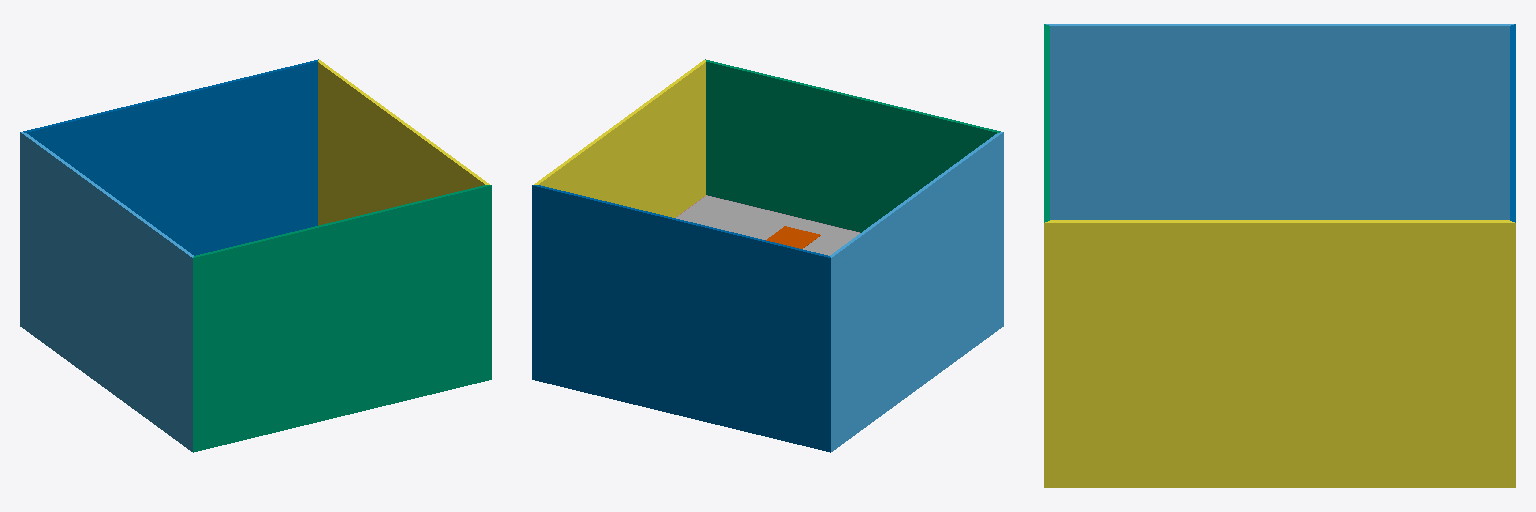
The robot description file, URDF, robot "arena_2025":
<?xml version='1.0' encoding='utf-8'?>
<robot name="arena_2025">
    <link name="base_link">
        <inertial>
            <origin xyz="4.0016179473047675 4.0013599276282035 0.04993309332569758" rpy="0.0 0.0 0.0" />
            <mass value="50179.96518754694" />
            <inertia ixx="267648.59232663445" iyy="267613.65854371747" izz="535178.8370239411" ixy="184.71112167276442" iyz="-3.373729939759869" ixz="-4.027221266112974" />
        </inertial>
        <visual name="base_link_visual">
            <origin xyz="0.0 0.0 0.0" rpy="0.0 0.0 0.0" />
            <geometry>
                <mesh filename="meshes/base_link.stl" scale="0.001 0.001 0.001" />
            </geometry>
        </visual>
        <collision name="base_link_collision">
            <origin xyz="0.0 0.0 0.0" rpy="0.0 0.0 0.0" />
            <geometry>
                <mesh filename="meshes/base_link.stl" scale="0.001 0.001 0.001" />
            </geometry>
        </collision>
    </link>
    <link name="parede1">
        <inertial>
            <origin xyz="2.500151304242571 0.0 0.00020728681232221825" rpy="0.0 -0.0 0.0" />
            <mass value="32426.387499999997" />
            <inertia ixx="177356.0474374378" iyy="70303.20121853898" izz="247605.20746339276" ixy="5.820766091346741e-11" iyz="0.0" ixz="0.12367325092327519" />
        </inertial>
        <visual name="parede1_visual">
            <origin xyz="-0.05 -4.0 -0.05" rpy="-0.0 1.5707963267948966 0" />
            <geometry>
                <mesh filename="meshes/parede1.stl" scale="0.001 0.001 0.001" />
            </geometry>
        </visual>
        <collision name="parede1_collision">
            <origin xyz="-0.05 -4.0 -0.05" rpy="-0.0 1.5707963267948966 0" />
            <geometry>
                <mesh filename="meshes/parede1.stl" scale="0.001 0.001 0.001" />
            </geometry>
        </collision>
    </link>
    <link name="parede2">
        <inertial>
            <origin xyz="0.0 2.500151304242571 0.00020728681232221825" rpy="0.0 -0.0 0.0" />
            <mass value="32426.387499999997" />
            <inertia ixx="70303.20121853898" iyy="177356.0474374378" izz="247605.20746339276" ixy="5.820766091346741e-11" iyz="0.12367325092327519" ixz="0.0" />
        </inertial>
        <visual name="parede2_visual">
            <origin xyz="-4.0 -0.05 -0.05" rpy="-1.5707963267948966 -0.0 0.0" />
            <geometry>
                <mesh filename="meshes/parede2.stl" scale="0.001 0.001 0.001" />
            </geometry>
        </visual>
        <collision name="parede2_collision">
            <origin xyz="-4.0 -0.05 -0.05" rpy="-1.5707963267948966 -0.0 0.0" />
            <geometry>
                <mesh filename="meshes/parede2.stl" scale="0.001 0.001 0.001" />
            </geometry>
        </collision>
    </link>
    <link name="parede3">
        <inertial>
            <origin xyz="2.500151304242571 -9.999999974752428e-09 0.0002072868123218541" rpy="0.0 -0.0 0.0" />
            <mass value="32426.387499999997" />
            <inertia ixx="177356.04743743734" iyy="70303.20121853892" izz="247605.20746339252" ixy="-5.820766091346741e-11" iyz="2.3283064365386963e-10" ixz="0.12367325101513416" />
        </inertial>
        <visual name="parede3_visual">
            <origin xyz="-0.05 3.99999999 -8.05" rpy="-3.141592653589793 -1.5707963267948966 0" />
            <geometry>
                <mesh filename="meshes/parede3.stl" scale="0.001 0.001 0.001" />
            </geometry>
        </visual>
        <collision name="parede3_collision">
            <origin xyz="-0.05 3.99999999 -8.05" rpy="-3.141592653589793 -1.5707963267948966 0" />
            <geometry>
                <mesh filename="meshes/parede3.stl" scale="0.001 0.001 0.001" />
            </geometry>
        </collision>
    </link>
    <link name="parede4">
        <inertial>
            <origin xyz="0.0 -2.500151304242571 0.0002072868123218541" rpy="0.0 -0.0 0.0" />
            <mass value="32426.387499999997" />
            <inertia ixx="70303.20121853892" iyy="177356.04743743734" izz="247605.20746339252" ixy="-5.820766091346741e-11" iyz="-0.12367325101513416" ixz="-2.3283064365386963e-10" />
        </inertial>
        <visual name="parede4_visual">
            <origin xyz="-4.0 0.05 -8.05" rpy="1.5707963267948966 -0.0 0.0" />
            <geometry>
                <mesh filename="meshes/parede4.stl" scale="0.001 0.001 0.001" />
            </geometry>
        </visual>
        <collision name="parede4_collision">
            <origin xyz="-4.0 0.05 -8.05" rpy="1.5707963267948966 -0.0 0.0" />
            <geometry>
                <mesh filename="meshes/parede4.stl" scale="0.001 0.001 0.001" />
            </geometry>
        </collision>
    </link>
    <link name="Takeoff_Base">
        <inertial>
            <origin xyz="0.0 0.0 0.25050000000000006" rpy="0.0 -0.0 0.0" />
            <mass value="11798.55" />
            <inertia ixx="2459.015445712501" iyy="4179.637320712502" izz="6145.078125" ixy="-1.8189894035458565e-12" iyz="4.547473508864641e-13" ixz="0.0" />
        </inertial>
        <visual name="Takeoff_Base_visual">
            <origin xyz="-1.0 -0.75 -0.099" rpy="0.0 -0.0 0.0" />
            <geometry>
                <mesh filename="meshes/Takeoff_Base.stl" scale="0.001 0.001 0.001" />
            </geometry>
        </visual>
        <collision name="Takeoff_Base_collision">
            <origin xyz="-1.0 -0.75 -0.099" rpy="0.0 -0.0 0.0" />
            <geometry>
                <mesh filename="meshes/Takeoff_Base.stl" scale="0.001 0.001 0.001" />
            </geometry>
        </collision>
    </link>
    <link name="casa_paredes">
        <inertial>
            <origin xyz="0.03020244236199403 -0.016497457106738125 0.7736794218110731" rpy="0.0 -0.0 0.0" />
            <mass value="3304.9478712202363" />
            <inertia ixx="2710.237049619859" iyy="12143.995963199108" izz="13600.092624652665" ixy="87.29446573412679" iyz="42.37317346685586" ixz="20.768977798163178" />
        </inertial>
        <visual name="casa_paredes_visual">
            <origin xyz="-4.98800003 -0.99999546 -0.073" rpy="0.0 -0.0 0.0" />
            <geometry>
                <mesh filename="meshes/casa_paredes.stl" scale="0.001 0.001 0.001" />
            </geometry>
        </visual>
        <collision name="casa_paredes_collision">
            <origin xyz="-4.98800003 -0.99999546 -0.073" rpy="0.0 -0.0 0.0" />
            <geometry>
                <mesh filename="meshes/casa_paredes.stl" scale="0.001 0.001 0.001" />
            </geometry>
        </collision>
    </link>
    <link name="casa_teto">
        <inertial>
            <origin xyz="0.012000028397619645 -0.0007485727960295208 -3.841817082559373e-05" rpy="0.0 -0.0 0.0" />
            <mass value="919.118981303504" />
            <inertia ixx="300.91324981182834" iyy="2758.070419543652" izz="3058.968541818951" ixy="-1.401973804604495e-05" iyz="0.0031351931324934412" ixz="1.6749527276260778e-07" />
        </inertial>
        <visual name="casa_teto_visual">
            <origin xyz="-4.98800003 -0.99999546 -1.595" rpy="0.0 -0.0 0.0" />
            <geometry>
                <mesh filename="meshes/casa_teto.stl" scale="0.001 0.001 0.001" />
            </geometry>
        </visual>
        <collision name="casa_teto_collision">
            <origin xyz="-4.98800003 -0.99999546 -1.595" rpy="0.0 -0.0 0.0" />
            <geometry>
                <mesh filename="meshes/casa_teto.stl" scale="0.001 0.001 0.001" />
            </geometry>
        </collision>
    </link>
    <link name="Landing_Bases1">
        <inertial>
            <origin xyz="0.0 0.0 0.3755" rpy="0.0 -0.0 0.0" />
            <mass value="5895.3499999999985" />
            <inertia ixx="768.3611079458351" iyy="768.3611079458333" izz="982.5583333333416" ixy="0.0" iyz="0.0" ixz="0.0" />
        </inertial>
        <visual name="Landing_Bases1_visual">
            <origin xyz="-1.0 -3.0 -0.099" rpy="0.0 -0.0 0.0" />
            <geometry>
                <mesh filename="meshes/Landing_Bases1.stl" scale="0.001 0.001 0.001" />
            </geometry>
        </visual>
        <collision name="Landing_Bases1_collision">
            <origin xyz="-1.0 -3.0 -0.099" rpy="0.0 -0.0 0.0" />
            <geometry>
                <mesh filename="meshes/Landing_Bases1.stl" scale="0.001 0.001 0.001" />
            </geometry>
        </collision>
    </link>
    <link name="Landing_Bases2">
        <inertial>
            <origin xyz="0.0 0.0 0.5005000000000001" rpy="0.0 -0.0 0.0" />
            <mass value="7857.849999999999" />
            <inertia ixx="1310.9519631541916" iyy="1310.9519631541625" izz="1309.6416666667792" ixy="-2.9103830456733704e-11" iyz="0.0" ixz="0.0" />
        </inertial>
        <visual name="Landing_Bases2_visual">
            <origin xyz="-4.5 -6.5 -0.099" rpy="0.0 -0.0 0.0" />
            <geometry>
                <mesh filename="meshes/Landing_Bases2.stl" scale="0.001 0.001 0.001" />
            </geometry>
        </visual>
        <collision name="Landing_Bases2_collision">
            <origin xyz="-4.5 -6.5 -0.099" rpy="0.0 -0.0 0.0" />
            <geometry>
                <mesh filename="meshes/Landing_Bases2.stl" scale="0.001 0.001 0.001" />
            </geometry>
        </collision>
    </link>
    <link name="Landing_Bases3">
        <inertial>
            <origin xyz="0.0 0.0 0.005" rpy="0.0 -0.0 0.0" />
            <mass value="78.5" />
            <inertia ixx="6.542320833333633" iyy="6.542320833333321" izz="13.083333333333485" ixy="1.1368683772161603e-13" iyz="1.4210854715202004e-14" ixz="3.552713678800501e-15" />
        </inertial>
        <visual name="Landing_Bases3_visual">
            <origin xyz="-1.5 -6.0 -0.099" rpy="0.0 -0.0 0.0" />
            <geometry>
                <mesh filename="meshes/Landing_Bases3.stl" scale="0.001 0.001 0.001" />
            </geometry>
        </visual>
        <collision name="Landing_Bases3_collision">
            <origin xyz="-1.5 -6.0 -0.099" rpy="0.0 -0.0 0.0" />
            <geometry>
                <mesh filename="meshes/Landing_Bases3.stl" scale="0.001 0.001 0.001" />
            </geometry>
        </collision>
    </link>
    <link name="Landing_Bases4">
        <inertial>
            <origin xyz="0.0 0.0 0.005" rpy="0.0 -0.0 0.0" />
            <mass value="78.5" />
            <inertia ixx="6.542320833333406" iyy="6.542320833333406" izz="13.08333333333303" ixy="2.2737367544323206e-13" iyz="7.105427357601002e-15" ixz="7.105427357601002e-15" />
        </inertial>
        <visual name="Landing_Bases4_visual">
            <origin xyz="-4.0 -4.5 -0.099" rpy="0.0 -0.0 0.0" />
            <geometry>
                <mesh filename="meshes/Landing_Bases4.stl" scale="0.001 0.001 0.001" />
            </geometry>
        </visual>
        <collision name="Landing_Bases4_collision">
            <origin xyz="-4.0 -4.5 -0.099" rpy="0.0 -0.0 0.0" />
            <geometry>
                <mesh filename="meshes/Landing_Bases4.stl" scale="0.001 0.001 0.001" />
            </geometry>
        </collision>
    </link>
    <link name="Landing_Bases5">
        <inertial>
            <origin xyz="0.0 0.0 0.005" rpy="0.0 -0.0 0.0" />
            <mass value="78.5" />
            <inertia ixx="6.542320833333406" iyy="6.542320833332269" izz="13.08333333333212" ixy="0.0" iyz="7.105427357601002e-15" ixz="7.105427357601002e-15" />
        </inertial>
        <visual name="Landing_Bases5_visual">
            <origin xyz="-7.0 -3.0 -0.099" rpy="0.0 -0.0 0.0" />
            <geometry>
                <mesh filename="meshes/Landing_Bases5.stl" scale="0.001 0.001 0.001" />
            </geometry>
        </visual>
        <collision name="Landing_Bases5_collision">
            <origin xyz="-7.0 -3.0 -0.099" rpy="0.0 -0.0 0.0" />
            <geometry>
                <mesh filename="meshes/Landing_Bases5.stl" scale="0.001 0.001 0.001" />
            </geometry>
        </collision>
    </link>
    <link name="Landing_Bases6">
        <inertial>
            <origin xyz="0.0 0.0 0.005" rpy="0.0 -0.0 0.0" />
            <mass value="78.5" />
            <inertia ixx="6.542320833333349" iyy="6.542320833333633" izz="13.083333333333485" ixy="0.0" iyz="0.0" ixz="0.0" />
        </inertial>
        <visual name="Landing_Bases6_visual">
            <origin xyz="-5.0 -1.088 -1.5990000000000002" rpy="0.0 -0.0 0.0" />
            <geometry>
                <mesh filename="meshes/Landing_Bases6.stl" scale="0.001 0.001 0.001" />
            </geometry>
        </visual>
        <collision name="Landing_Bases6_collision">
            <origin xyz="-5.0 -1.088 -1.5990000000000002" rpy="0.0 -0.0 0.0" />
            <geometry>
                <mesh filename="meshes/Landing_Bases6.stl" scale="0.001 0.001 0.001" />
            </geometry>
        </collision>
    </link>
    <joint name="base_link_Rígido-5" type="fixed">
        <origin xyz="4.0 -0.05 0.05" rpy="1.5707963267948966 -0.0 0.0" />
        <parent link="base_link" />
        <child link="parede2" />
    </joint>
    <joint name="base_link_Rígido-6" type="fixed">
        <origin xyz="-0.05 4.0 0.05" rpy="-0.0 -1.5707963267948966 0" />
        <parent link="base_link" />
        <child link="parede1" />
    </joint>
    <joint name="base_link_Rígido-7" type="fixed">
        <origin xyz="4.0 8.05 0.05" rpy="-1.5707963267948966 -0.0 0.0" />
        <parent link="base_link" />
        <child link="parede4" />
    </joint>
    <joint name="base_link_Rígido-8" type="fixed">
        <origin xyz="8.05 3.99999999 0.05" rpy="-3.141592653589793 -1.5707963267948966 0" />
        <parent link="base_link" />
        <child link="parede3" />
    </joint>
    <joint name="base_link_Rígido-9" type="fixed">
        <origin xyz="1.0 0.75 0.099" rpy="0.0 -0.0 0.0" />
        <parent link="base_link" />
        <child link="Takeoff_Base" />
    </joint>
    <joint name="base_link_Rígido-11" type="fixed">
        <origin xyz="4.98800003 0.99999546 0.073" rpy="0.0 -0.0 0.0" />
        <parent link="base_link" />
        <child link="casa_paredes" />
    </joint>
    <joint name="base_link_Rígido-13" type="fixed">
        <origin xyz="1.0 3.0 0.099" rpy="0.0 -0.0 0.0" />
        <parent link="base_link" />
        <child link="Landing_Bases1" />
    </joint>
    <joint name="base_link_Rígido-14" type="fixed">
        <origin xyz="1.5 6.0 0.099" rpy="0.0 -0.0 0.0" />
        <parent link="base_link" />
        <child link="Landing_Bases3" />
    </joint>
    <joint name="base_link_Rígido-15" type="fixed">
        <origin xyz="4.5 6.5 0.099" rpy="0.0 -0.0 0.0" />
        <parent link="base_link" />
        <child link="Landing_Bases2" />
    </joint>
    <joint name="base_link_Rígido-16" type="fixed">
        <origin xyz="4.0 4.5 0.099" rpy="0.0 -0.0 0.0" />
        <parent link="base_link" />
        <child link="Landing_Bases4" />
    </joint>
    <joint name="base_link_Rígido-17" type="fixed">
        <origin xyz="7.0 3.0 0.099" rpy="0.0 -0.0 0.0" />
        <parent link="base_link" />
        <child link="Landing_Bases5" />
    </joint>
    <joint name="casa_teto_Rígido-19" type="fixed">
        <origin xyz="0.011999969999999962 0.08800454000000002 0.004000000000000057" rpy="0.0 -0.0 0.0" />
        <parent link="casa_teto" />
        <child link="Landing_Bases6" />
    </joint>
    <joint name="casa_paredes_Rígido-20" type="fixed">
        <origin xyz="0.0 0.0 1.522" rpy="0.0 -0.0 0.0" />
        <parent link="casa_paredes" />
        <child link="casa_teto" />
    </joint>
</robot>

--- Facts derived from the render (not from the file) ---
The picture shows the robot from 3 angles, left to right: view 1: azimuth 30°, elevation 25°; view 2: azimuth 150°, elevation 25°; view 3: azimuth 270°, elevation 25°; orthographic projection.
Robot: arena_2025 — 14 links, 13 joints (13 fixed); root link base_link; default pose: every joint at zero.
Visible links, largest first — view 1: parede2, parede4, parede1, parede3; view 2: parede4, parede1, parede2, parede3, casa_teto, Landing_Bases6; view 3: parede3, parede1, parede2, parede4.
Boxes of the visible links, x1=… form: parede2: x1=193, y1=185, x2=491, y2=452; parede4: x1=23, y1=59, x2=318, y2=255; parede1: x1=20, y1=132, x2=193, y2=451; parede3: x1=318, y1=60, x2=489, y2=225; parede4: x1=532, y1=185, x2=830, y2=452; parede1: x1=830, y1=132, x2=1003, y2=451; parede2: x1=705, y1=59, x2=1000, y2=232; parede3: x1=534, y1=60, x2=705, y2=217; casa_teto: x1=676, y1=195, x2=859, y2=255; Landing_Bases6: x1=766, y1=226, x2=820, y2=248; parede3: x1=1044, y1=220, x2=1515, y2=487; parede1: x1=1046, y1=24, x2=1513, y2=219; parede2: x1=1044, y1=24, x2=1049, y2=222; parede4: x1=1510, y1=24, x2=1515, y2=222.
Size in the robot's own frame: 8.2 by 8.2 by 5.1 metres.
14 mesh visuals loaded from 14 distinct referenced files (14 binary STL).